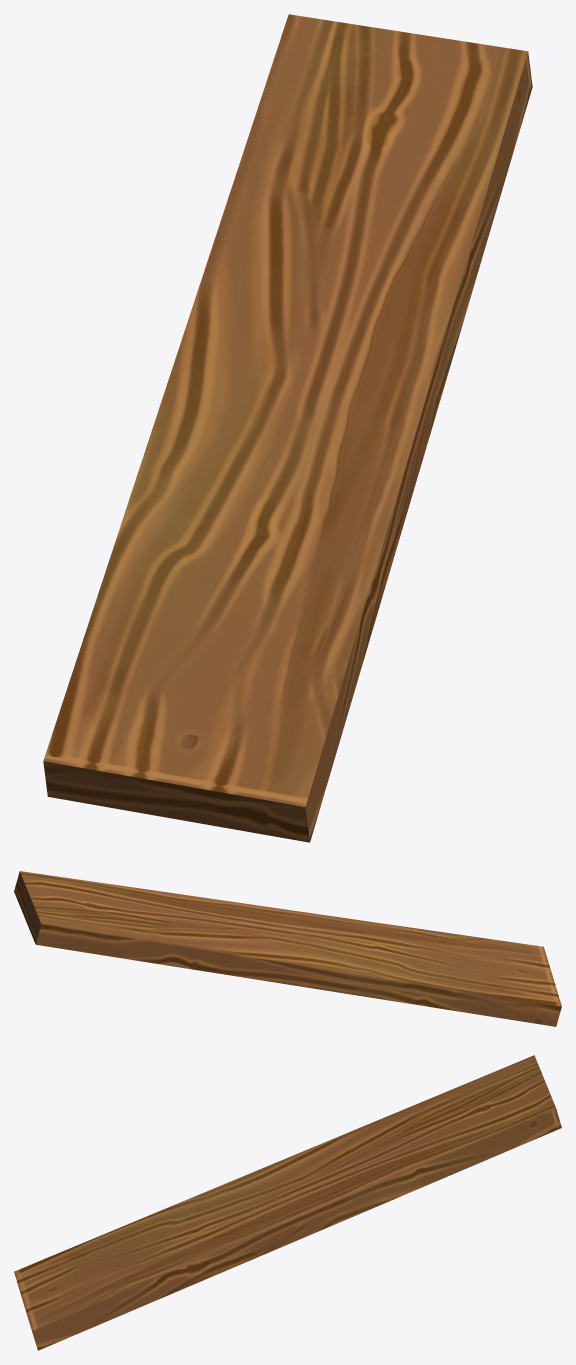
The picture shows the model from 3 angles, top to bottom: view 1: azimuth 30°, elevation 25°; view 2: azimuth 150°, elevation 25°; view 3: azimuth 330°, elevation 25°; orthographic projection. The views are drawn at different scales.
Parts seen in each view (by area): view 1: Cube.670; view 2: Cube.670; view 3: Cube.670.
Part boxes in pixels (box(x1,y1,x2,y2)): Cube.670: box(43, 14, 532, 842); Cube.670: box(14, 871, 561, 1026); Cube.670: box(14, 1055, 561, 1350).
Size of the model in its own units: 263 by 108 by 296.
1 material, 1 textured.
